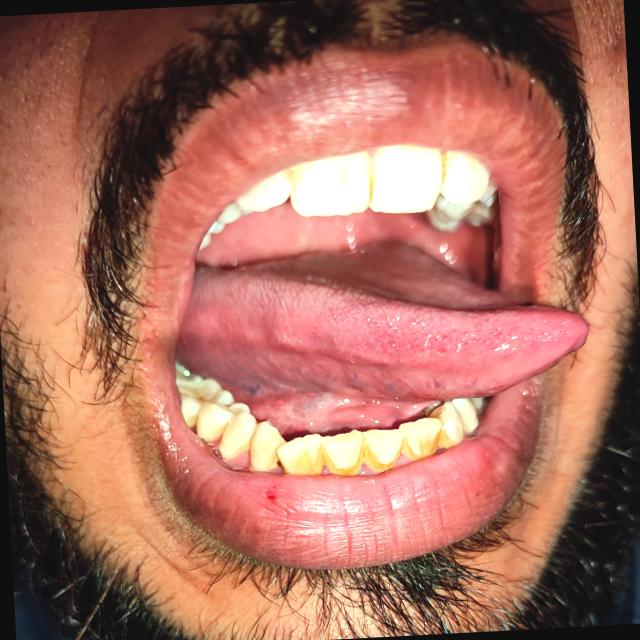No Cancer: (186, 289, 362, 438)
